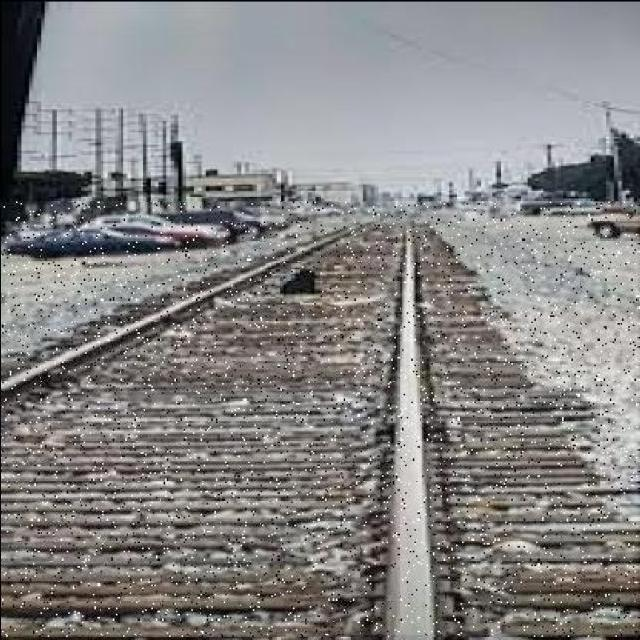rail: (2, 202, 639, 636)
